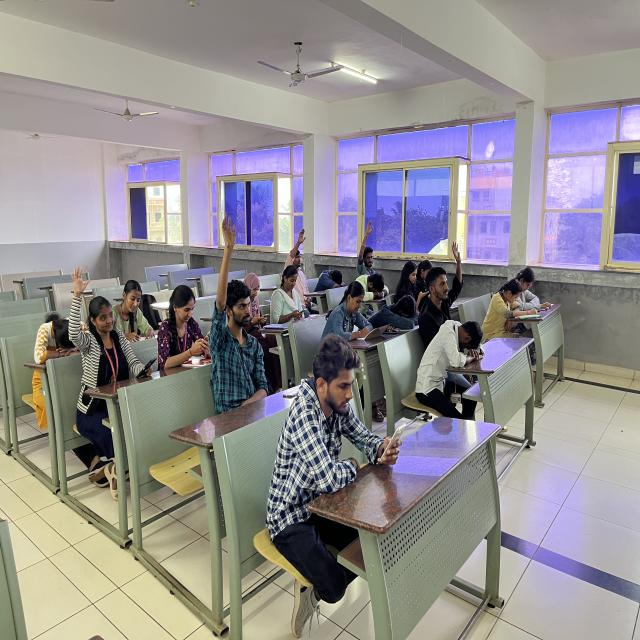Hand Rising: (200, 196, 283, 404), (63, 263, 132, 420), (422, 234, 478, 313), (280, 221, 316, 303), (351, 216, 393, 276)
Reading: (490, 270, 540, 332)
Sleeping: (418, 316, 504, 384), (27, 297, 95, 369), (312, 252, 348, 292), (357, 270, 392, 303)
Using Phone: (264, 327, 414, 561)
